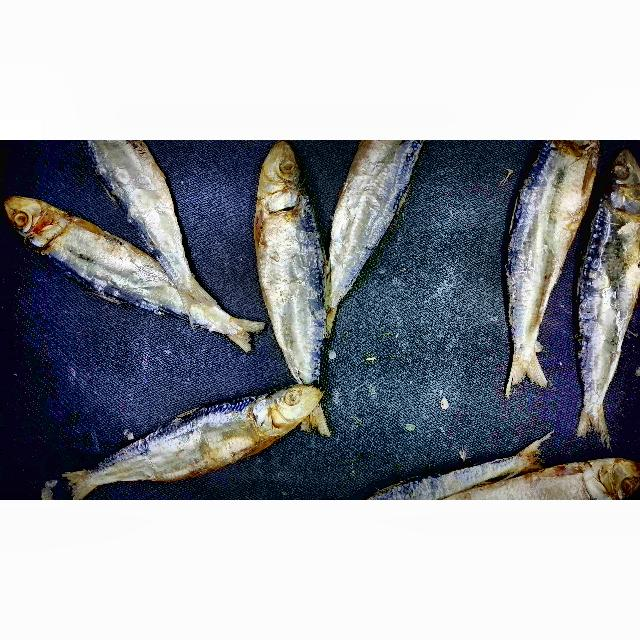Grade_C_Body: (501, 154, 594, 323), (328, 141, 427, 278), (112, 395, 253, 485), (252, 216, 328, 377), (88, 140, 203, 240), (577, 217, 640, 393), (75, 215, 168, 316), (479, 461, 585, 500)
Grade_C_Head: (4, 190, 71, 261), (255, 141, 312, 224), (256, 380, 328, 442), (600, 145, 640, 215), (584, 452, 637, 500)
Grade_C_Tail: (501, 328, 549, 398), (567, 395, 622, 444), (210, 311, 268, 356), (168, 261, 215, 313), (512, 421, 556, 472), (61, 458, 113, 500)
